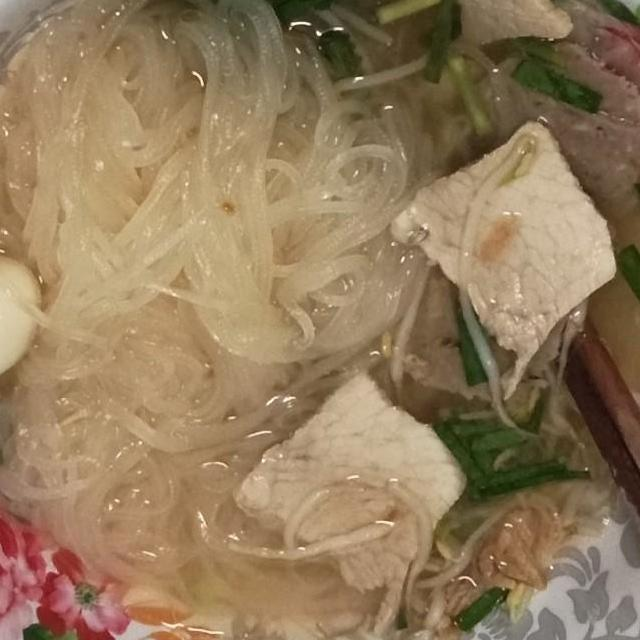banh hu tieu: (13, 0, 443, 378), (0, 343, 350, 590)
hu tieu: (0, 0, 640, 640)
thit heo: (382, 111, 624, 406), (225, 362, 473, 600), (245, 0, 581, 60)
trung: (0, 249, 47, 385)
